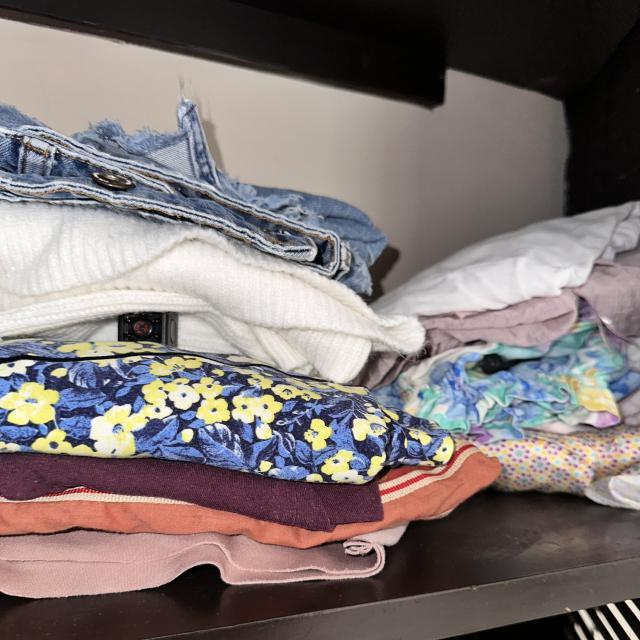hidden camera: (482, 354, 502, 372), (134, 321, 151, 336)
